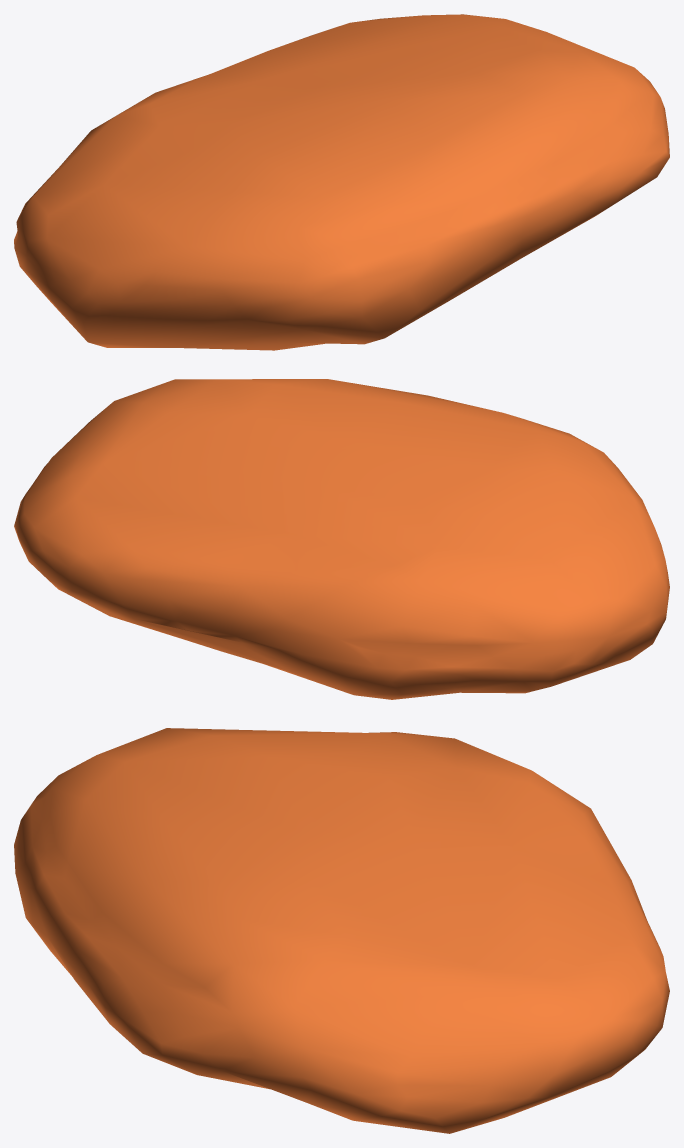
File: Rock10.fbx
3 views of the same model, one above another, from view 1: azimuth 30°, elevation 25°; view 2: azimuth 150°, elevation 25°; view 3: azimuth 270°, elevation 25° (orthographic). The views are drawn at different scales.
Parts seen in each view (by area): view 1: pasted__Cube.088; view 2: pasted__Cube.088; view 3: pasted__Cube.088.
Part boxes in pixels (bbox=[...]): pasted__Cube.088: bbox=[14, 14, 669, 350]; pasted__Cube.088: bbox=[14, 379, 669, 699]; pasted__Cube.088: bbox=[14, 728, 669, 1133].
Bounding box in the file's own units: 111 × 31.94 × 82.84.
